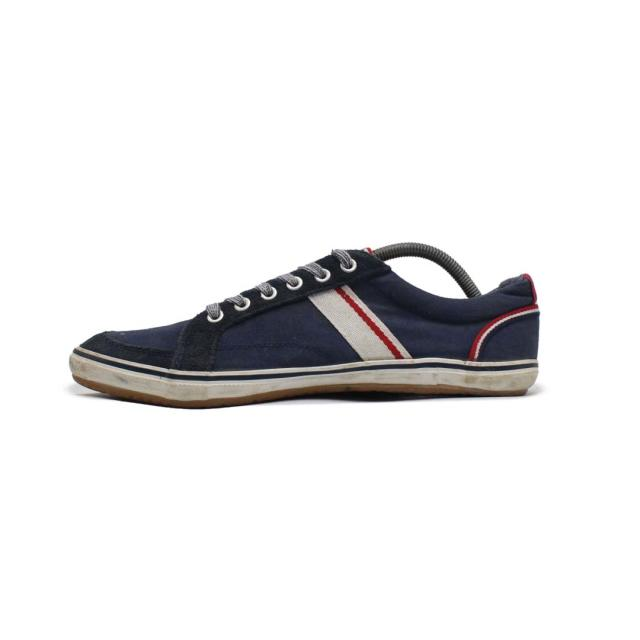heel: (494, 264, 556, 359)
midsole: (63, 352, 548, 399)
uppersole: (72, 248, 496, 369)
